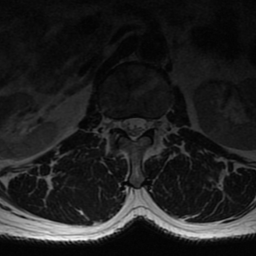CCS_normal: (130, 112, 137, 146)
LFS_normal: (147, 113, 155, 133)
LLS_normal: (138, 111, 147, 139)
RFS_normal: (112, 112, 121, 136)
RLS_normal: (121, 112, 129, 141)
